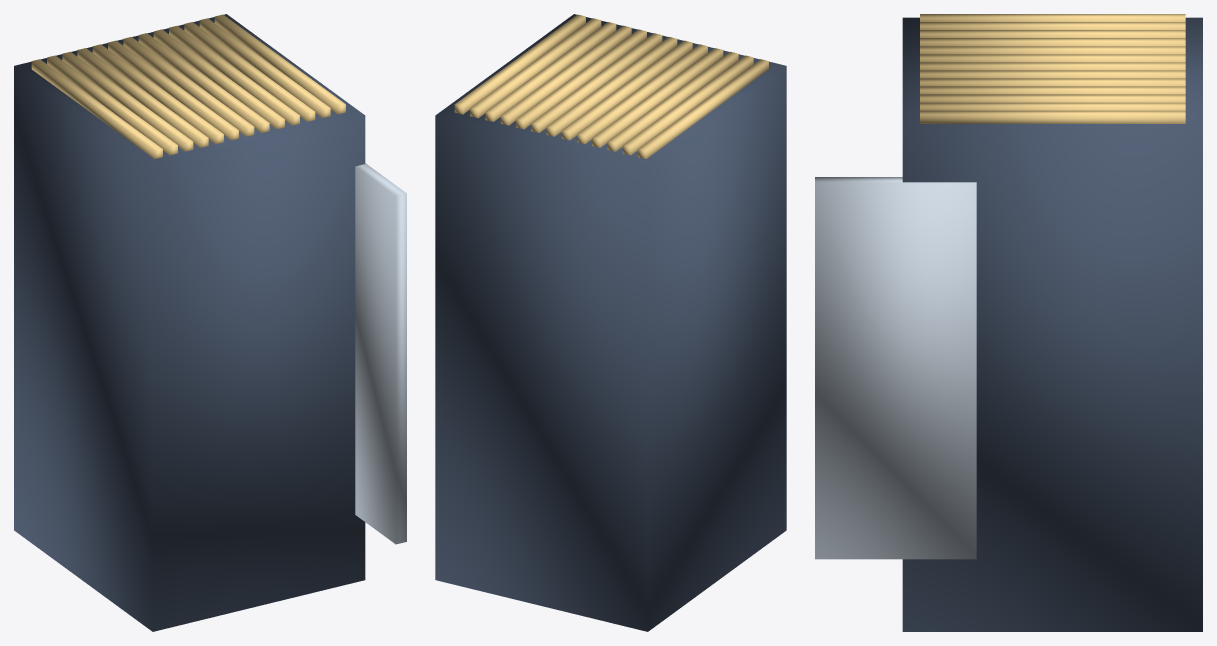
Rendered from 11_L91_PhotonSafetyShieldEnclosure.glb.
3 views of the same model, side by side, from view 1: azimuth 30°, elevation 25°; view 2: azimuth 150°, elevation 25°; view 3: azimuth 270°, elevation 25° (orthographic). The views are drawn at different scales.
Visible parts, largest first — view 1: L91_PhotonSafetyShieldEnclosu_Part_0000, L91_PhotonSafetyShieldEnclosu_Part_0001, L91_PhotonSafetyShieldEnclosu_Part_0002; view 2: L91_PhotonSafetyShieldEnclosu_Part_0000, L91_PhotonSafetyShieldEnclosu_Part_0001; view 3: L91_PhotonSafetyShieldEnclosu_Part_0000, L91_PhotonSafetyShieldEnclosu_Part_0002, L91_PhotonSafetyShieldEnclosu_Part_0001.
Boxes of the visible parts, x1=… form: L91_PhotonSafetyShieldEnclosu_Part_0000: x1=14, y1=14, x2=365, y2=631; L91_PhotonSafetyShieldEnclosu_Part_0001: x1=31, y1=14, x2=345, y2=159; L91_PhotonSafetyShieldEnclosu_Part_0002: x1=355, y1=163, x2=406, y2=544; L91_PhotonSafetyShieldEnclosu_Part_0000: x1=435, y1=14, x2=786, y2=631; L91_PhotonSafetyShieldEnclosu_Part_0001: x1=454, y1=14, x2=768, y2=158; L91_PhotonSafetyShieldEnclosu_Part_0000: x1=902, y1=17, x2=1202, y2=631; L91_PhotonSafetyShieldEnclosu_Part_0002: x1=815, y1=177, x2=976, y2=559; L91_PhotonSafetyShieldEnclosu_Part_0001: x1=920, y1=14, x2=1185, y2=123.
Size of the model in its own units: 2.31 by 4.89 by 3.36.
